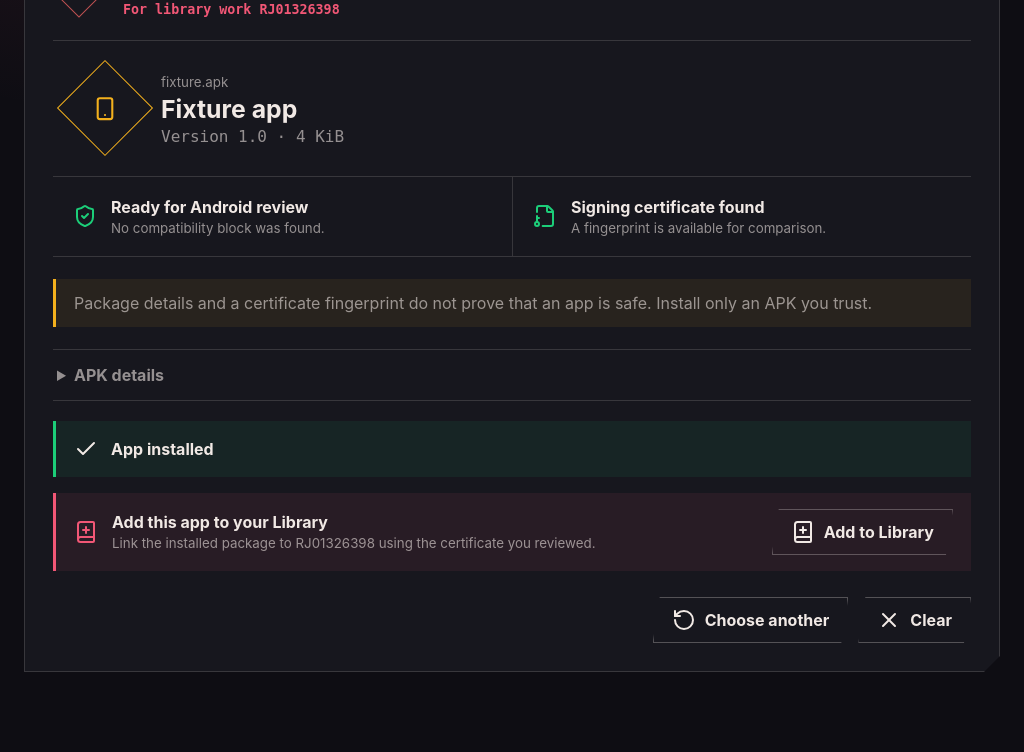
AndroidPackagePage › links only the completed installed selection to an explicit catalog work
(page scrolled)
Click the button "Add to Library". click: click(862, 532)
box: [772,509,953,555]
(page scrolled)
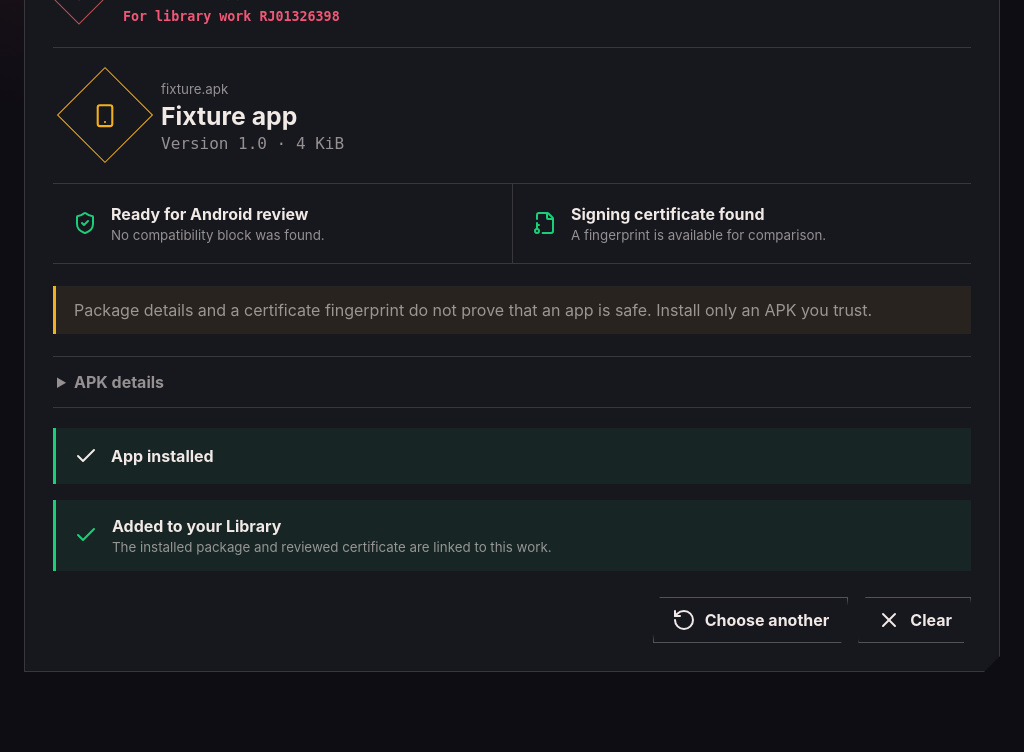
Expected: the text "Added to your Library" is shown, [112,516,281,536]
